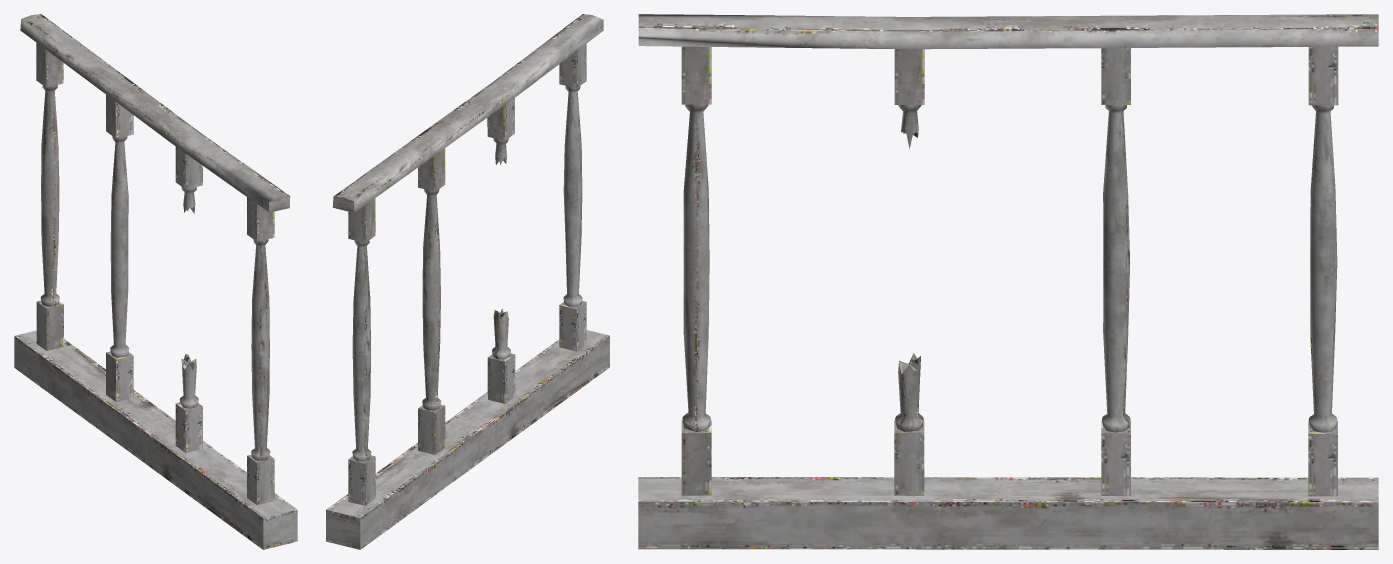
File: wh_staircase_banister.glb
3 renders of one model, left to right at view 1: azimuth 30°, elevation 25°; view 2: azimuth 150°, elevation 25°; view 3: azimuth 270°, elevation 25°, orthographic. The views are drawn at different scales.
Visible parts, largest first — view 1: wh_staircase_banister_LOD0; view 2: wh_staircase_banister_LOD0; view 3: wh_staircase_banister_LOD0.
Boxes of the visible parts, <box> form: wh_staircase_banister_LOD0: <box>14,14,297,549</box>; wh_staircase_banister_LOD0: <box>326,14,609,549</box>; wh_staircase_banister_LOD0: <box>638,14,1378,549</box>.
Size of the model in its own units: 0.1011 by 0.9707 by 1.26.
Materials: 1 (1 with a texture image).
